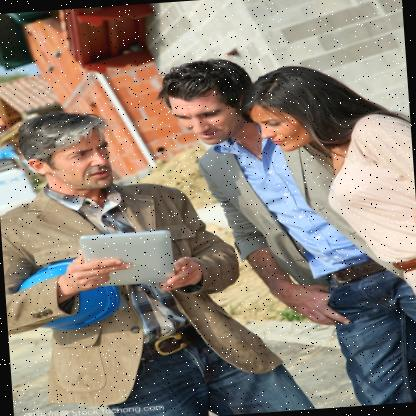sem_capacete: (240, 59, 350, 158), (11, 106, 120, 199), (155, 56, 250, 154)
sem_colete_refletivo: (0, 175, 244, 388), (197, 128, 354, 300), (314, 103, 415, 308)
